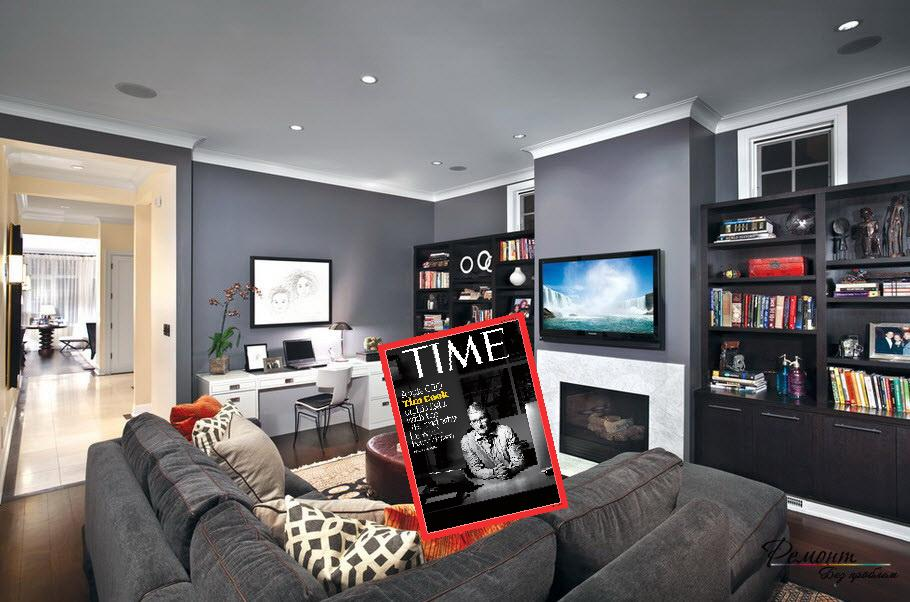times: (371, 307, 570, 550)
